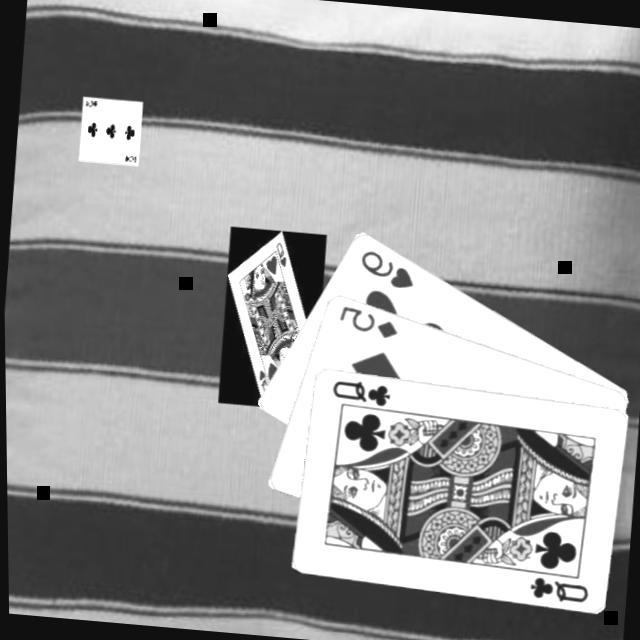5D: (331, 298, 400, 340)
9H: (352, 243, 418, 290)
QC: (326, 372, 392, 407), (522, 570, 588, 604)
